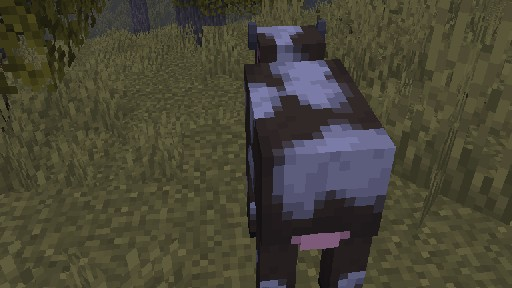cow: (243, 18, 396, 288)
